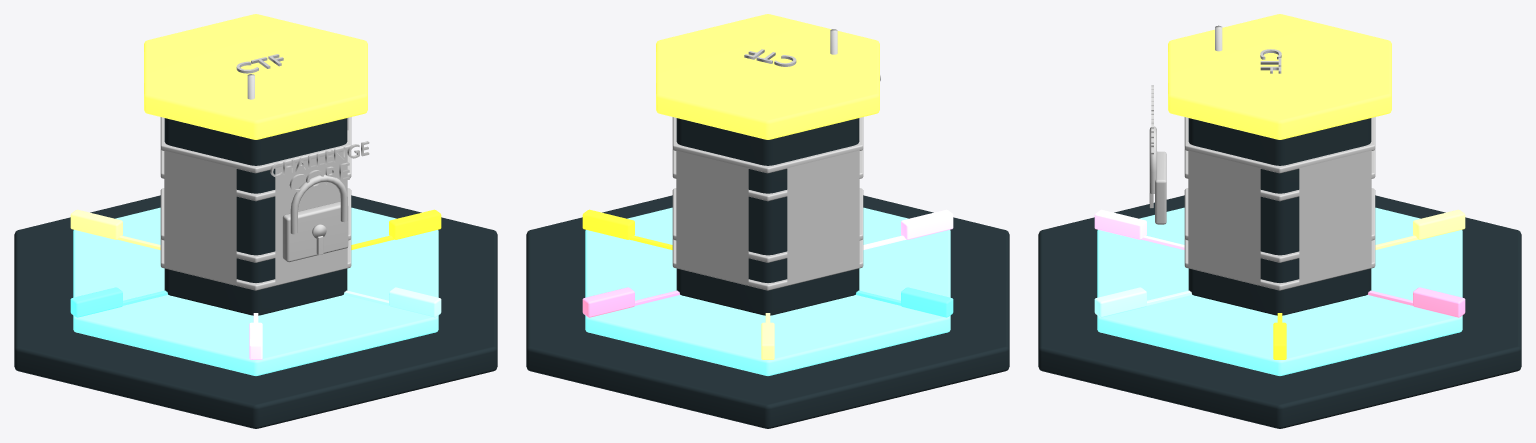
The model's file is challenge-core-vault.glb.
3 views of the same model, side by side, from view 1: azimuth 30°, elevation 25°; view 2: azimuth 150°, elevation 25°; view 3: azimuth 270°, elevation 25° (orthographic).
Visible parts, largest first — view 1: ChallengeCore_hex_foundation, ChallengeCore_lower_status_plinth, ChallengeCore_top_cipher_cap, ChallengeCore_vault_body, ChallengeCore_textured_category_panel_03, ChallengeCore_textured_category_panel_04, ChallengeCore_lock_body, ChallengeCore_vault_hex_rib_0.61, ChallengeCore_category_cartridge_CRY, ChallengeCore_category_cartridge_FOR, ChallengeCore_category_cartridge_WEB, ChallengeCore_category_cartridge_REV (+7 smaller); view 2: ChallengeCore_hex_foundation, ChallengeCore_lower_status_plinth, ChallengeCore_top_cipher_cap, ChallengeCore_vault_body, ChallengeCore_textured_category_panel_01, ChallengeCore_textured_category_panel_02, ChallengeCore_vault_hex_rib_0.61, ChallengeCore_category_cartridge_PWN, ChallengeCore_category_cartridge_CRY, ChallengeCore_category_cartridge_WEB, ChallengeCore_category_cartridge_MSC, ChallengeCore_vault_hex_rib_0.32 (+3 smaller); view 3: ChallengeCore_hex_foundation, ChallengeCore_lower_status_plinth, ChallengeCore_top_cipher_cap, ChallengeCore_vault_body, ChallengeCore_textured_category_panel_00, ChallengeCore_textured_category_panel_05, ChallengeCore_vault_hex_rib_0.61, ChallengeCore_category_cartridge_PWN, ChallengeCore_category_cartridge_FOR, ChallengeCore_category_cartridge_REV, ChallengeCore_category_cartridge_MSC, ChallengeCore_lock_body (+4 smaller).
Boxes of the visible parts, bbox=[...] form: ChallengeCore_hex_foundation: bbox=[14, 195, 497, 428]; ChallengeCore_lower_status_plinth: bbox=[73, 207, 438, 375]; ChallengeCore_top_cipher_cap: bbox=[144, 14, 367, 139]; ChallengeCore_vault_body: bbox=[164, 118, 347, 315]; ChallengeCore_textured_category_panel_03: bbox=[164, 150, 236, 285]; ChallengeCore_textured_category_panel_04: bbox=[275, 150, 347, 285]; ChallengeCore_lock_body: bbox=[282, 201, 348, 262]; ChallengeCore_vault_hex_rib_0.61: bbox=[160, 117, 351, 173]; ChallengeCore_category_cartridge_CRY: bbox=[70, 287, 122, 317]; ChallengeCore_category_cartridge_FOR: bbox=[389, 287, 441, 317]; ChallengeCore_category_cartridge_WEB: bbox=[389, 209, 441, 239]; ChallengeCore_category_cartridge_REV: bbox=[70, 209, 122, 239]; ChallengeCore_hex_foundation: bbox=[526, 195, 1009, 428]; ChallengeCore_lower_status_plinth: bbox=[585, 207, 950, 375]; ChallengeCore_top_cipher_cap: bbox=[656, 14, 879, 139]; ChallengeCore_vault_body: bbox=[676, 118, 859, 315]; ChallengeCore_textured_category_panel_01: bbox=[676, 150, 748, 285]; ChallengeCore_textured_category_panel_02: bbox=[787, 150, 859, 285]; ChallengeCore_vault_hex_rib_0.61: bbox=[672, 117, 863, 173]; ChallengeCore_category_cartridge_PWN: bbox=[582, 287, 634, 317]; ChallengeCore_category_cartridge_CRY: bbox=[901, 287, 953, 317]; ChallengeCore_category_cartridge_WEB: bbox=[582, 209, 634, 239]; ChallengeCore_category_cartridge_MSC: bbox=[901, 209, 953, 239]; ChallengeCore_vault_hex_rib_0.32: bbox=[672, 188, 863, 262]; ChallengeCore_hex_foundation: bbox=[1038, 195, 1521, 428]; ChallengeCore_lower_status_plinth: bbox=[1097, 207, 1462, 375]; ChallengeCore_top_cipher_cap: bbox=[1168, 14, 1391, 139]; ChallengeCore_vault_body: bbox=[1188, 118, 1371, 315]; ChallengeCore_textured_category_panel_00: bbox=[1299, 150, 1371, 285]; ChallengeCore_textured_category_panel_05: bbox=[1188, 150, 1260, 285]; ChallengeCore_vault_hex_rib_0.61: bbox=[1184, 117, 1375, 173]; ChallengeCore_category_cartridge_PWN: bbox=[1413, 287, 1465, 317]; ChallengeCore_category_cartridge_FOR: bbox=[1094, 287, 1146, 317]; ChallengeCore_category_cartridge_REV: bbox=[1413, 209, 1465, 239]; ChallengeCore_category_cartridge_MSC: bbox=[1094, 209, 1146, 239]; ChallengeCore_lock_body: bbox=[1155, 151, 1166, 224].
Bounding box in the file's own units: 1.63 × 0.87 × 1.42.
